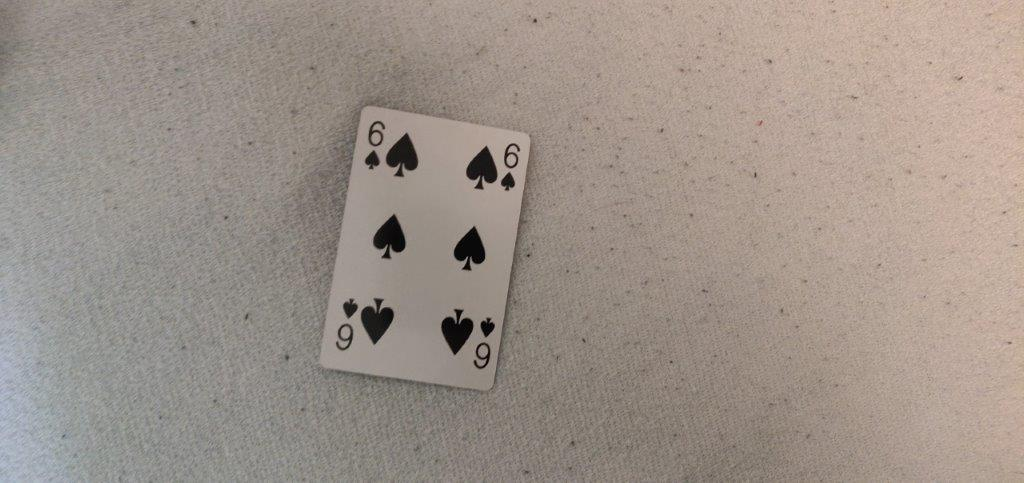6S: (362, 117, 387, 176), (498, 138, 522, 196)
